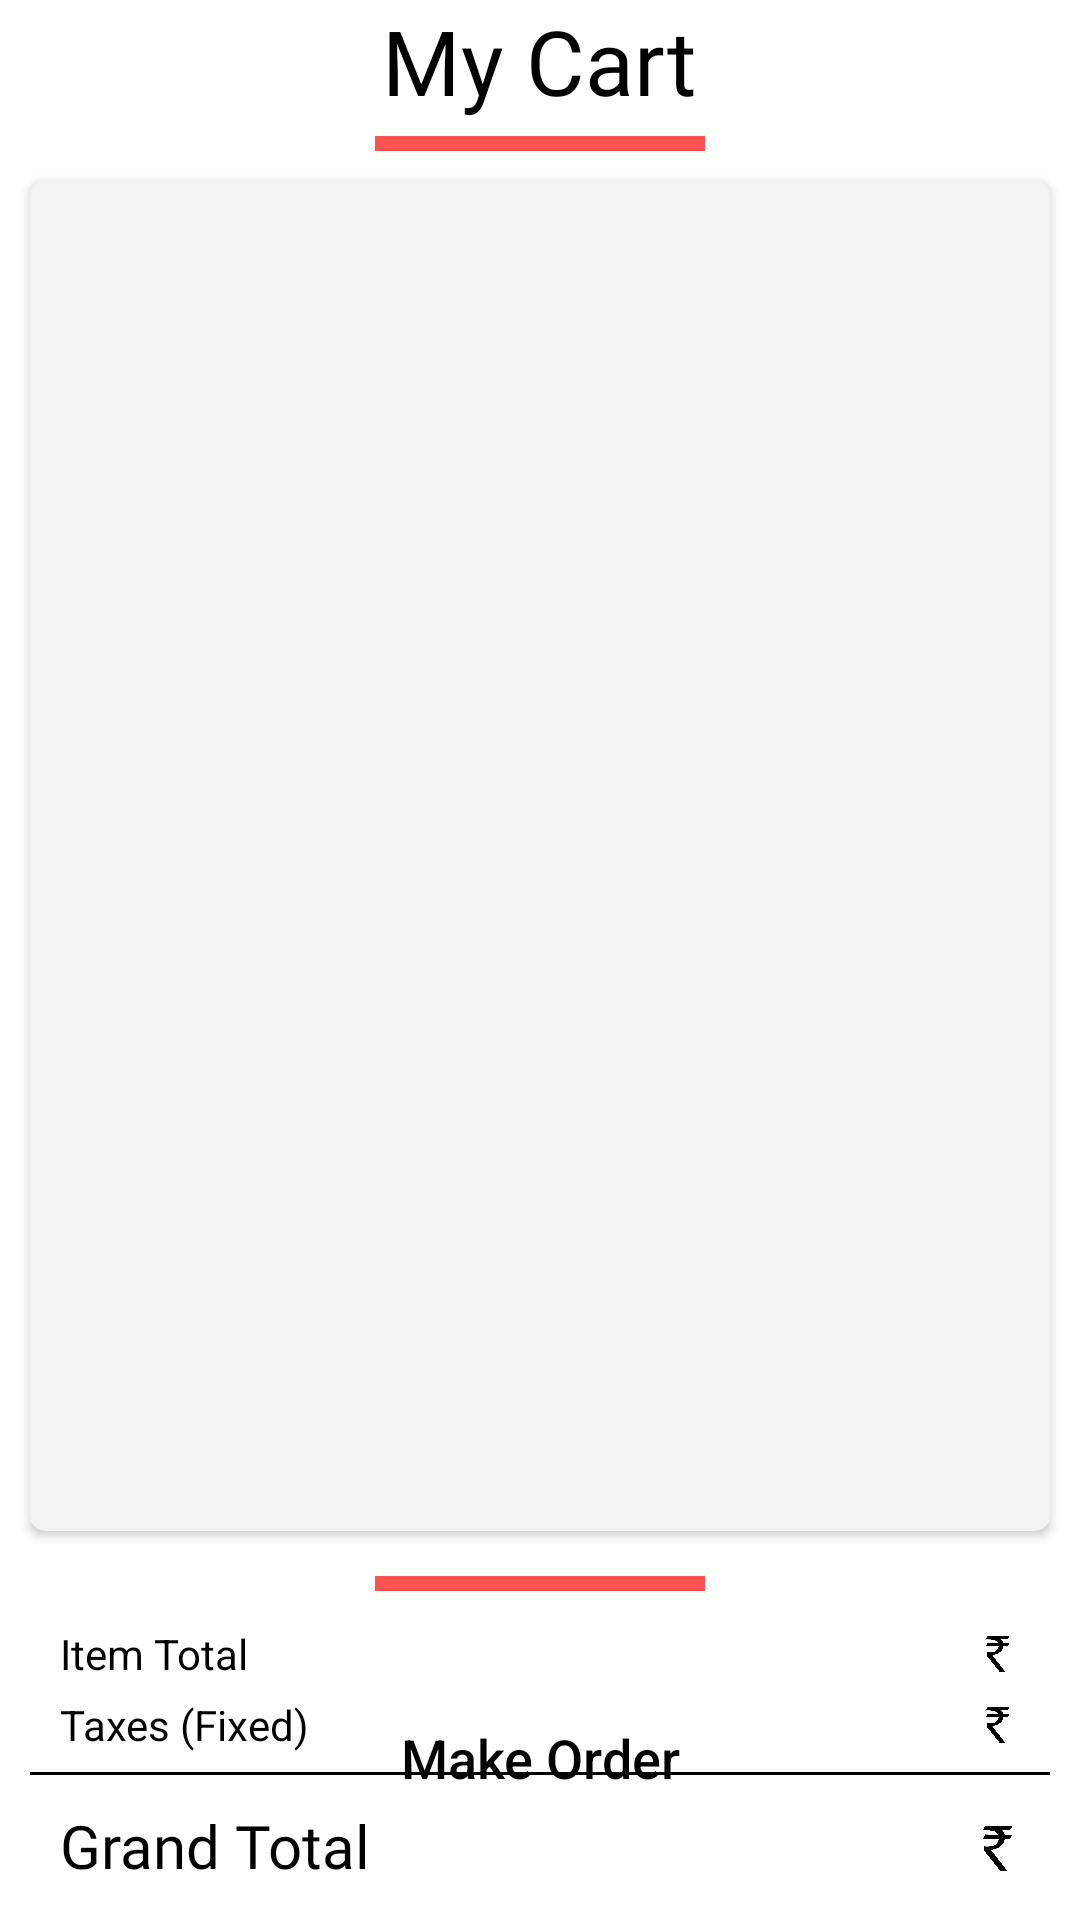

Named icons in this screenshot (1080px x 1920px) and their centers, [x,y]:
rupee im: [997,1654], [997,1725], [997,1848]
